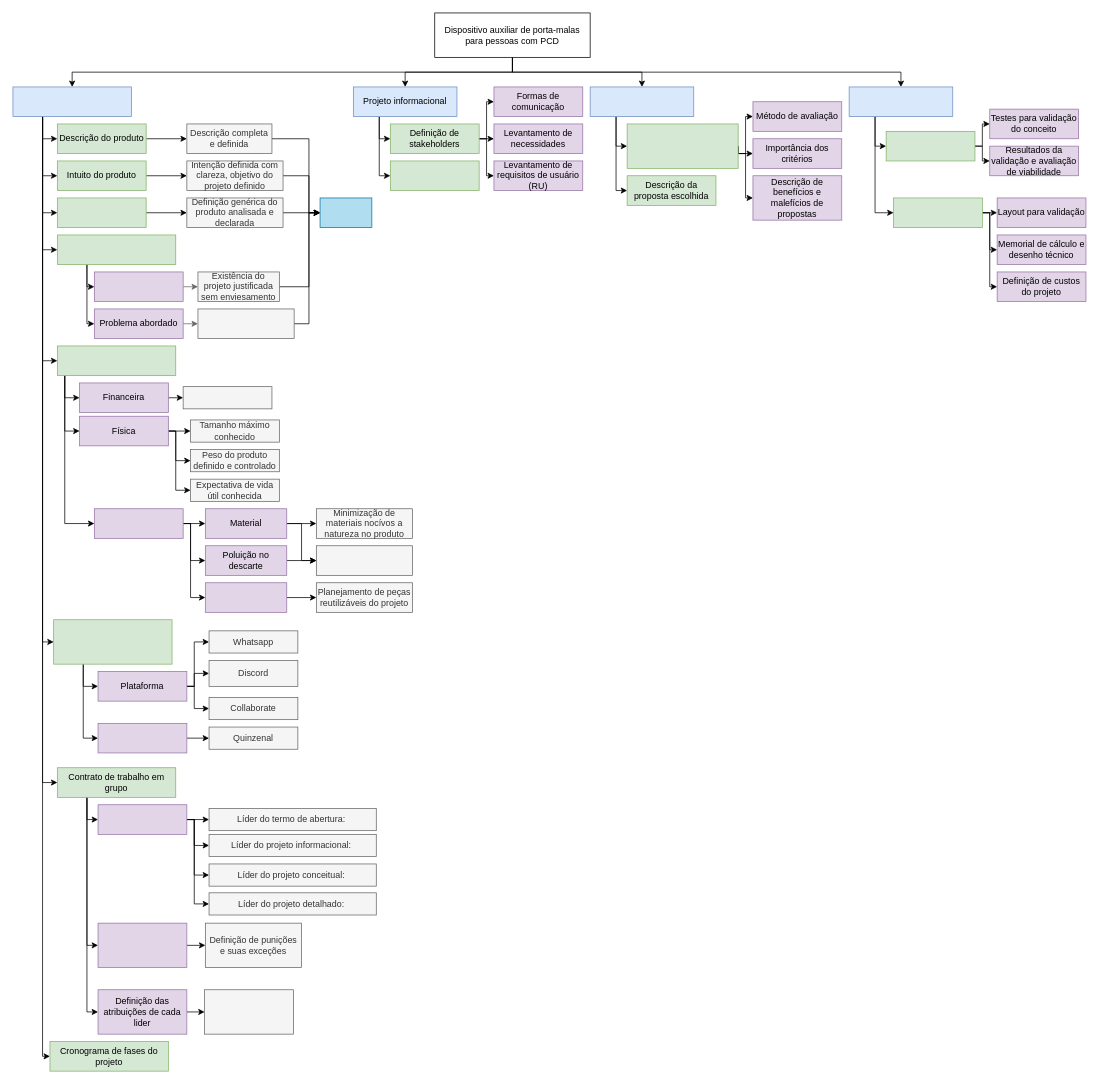
This 1099x1084 diagram has some shape labels left out. The shapes that lost their labels are listed below. From the top down, each one's box as (x1, y1, x2, y2) in pixels, then its label:
(12, 86, 131, 117): Termo de abertura
(589, 86, 694, 117): Projeto conceitual
(848, 86, 953, 117): Projeto detalhado
(626, 123, 738, 168): Descrever o processo de eliminação e refinamento de propostas
(885, 131, 975, 161): Validação do conceito
(390, 160, 479, 191): Levantamento de requisitos do projeto (RP)
(57, 197, 146, 228): Funcionamento generalizado
(319, 197, 372, 228): Escopo do projeto
(893, 197, 982, 228): Documentação técnica
(57, 234, 176, 265): Jutificativa e contexto
(94, 271, 183, 302): Necessidade suprida
(197, 308, 294, 339): Definição do problema adequada e de acordo com o tema do projeto
(57, 345, 176, 376): Restrições do projeto
(182, 386, 272, 409): Custo médio de fabricação definido
(94, 508, 183, 538): Ambiental
(316, 545, 413, 575): Desgaste conhecido e previsto para facitar métodos de descarte
(205, 582, 287, 612): Reusabilidade do produto e/ou peças
(53, 619, 172, 664): Planejamento de gerenciamento de comunicação
(97, 723, 187, 753): Cronograma de reuniões
(97, 804, 187, 834): Atribuições
(97, 922, 187, 968): Definição da punição por falha na liderança de um estágio
(204, 989, 293, 1034): Declaração das responsabilidades principais
